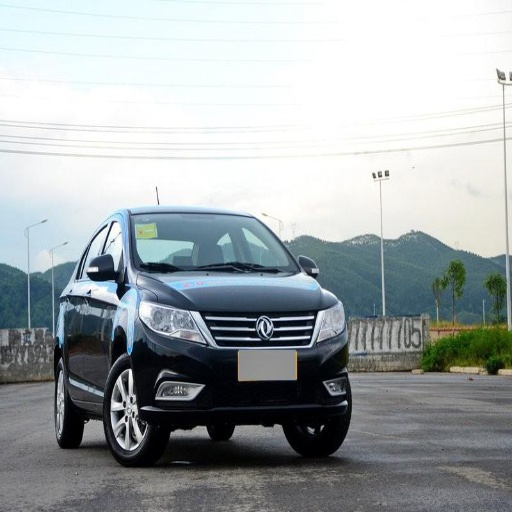front_bumper: (134, 309, 350, 427)
front_right_door: (75, 216, 127, 387)
front_right_light: (140, 300, 203, 342)
hood: (143, 273, 328, 313)
